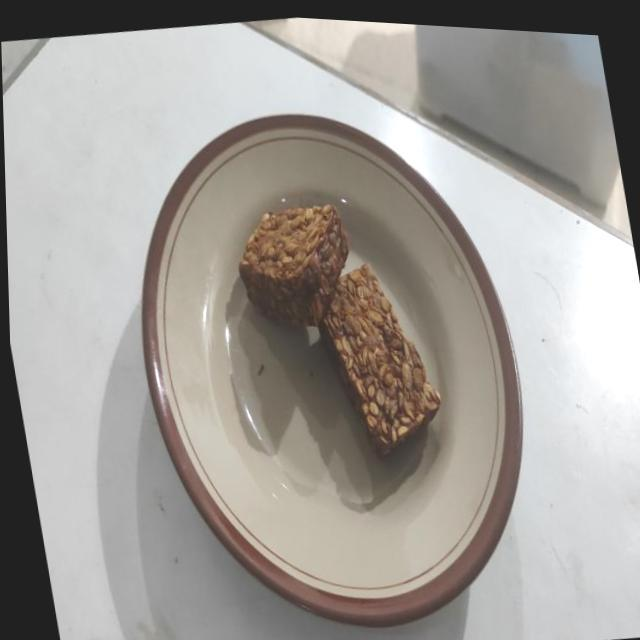tempe_goreng: (320, 264, 441, 457), (240, 204, 348, 326)
